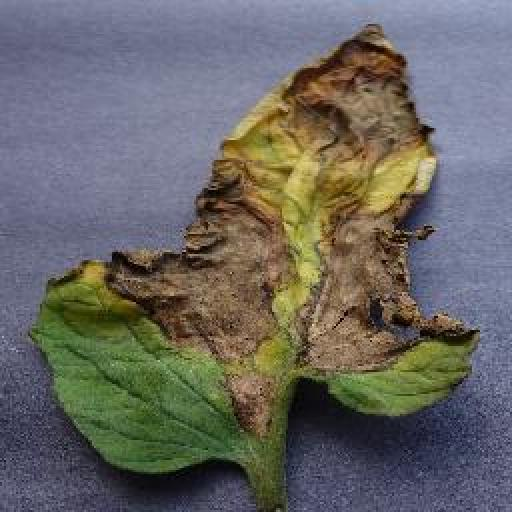disease_tomato: (23, 18, 485, 478)
